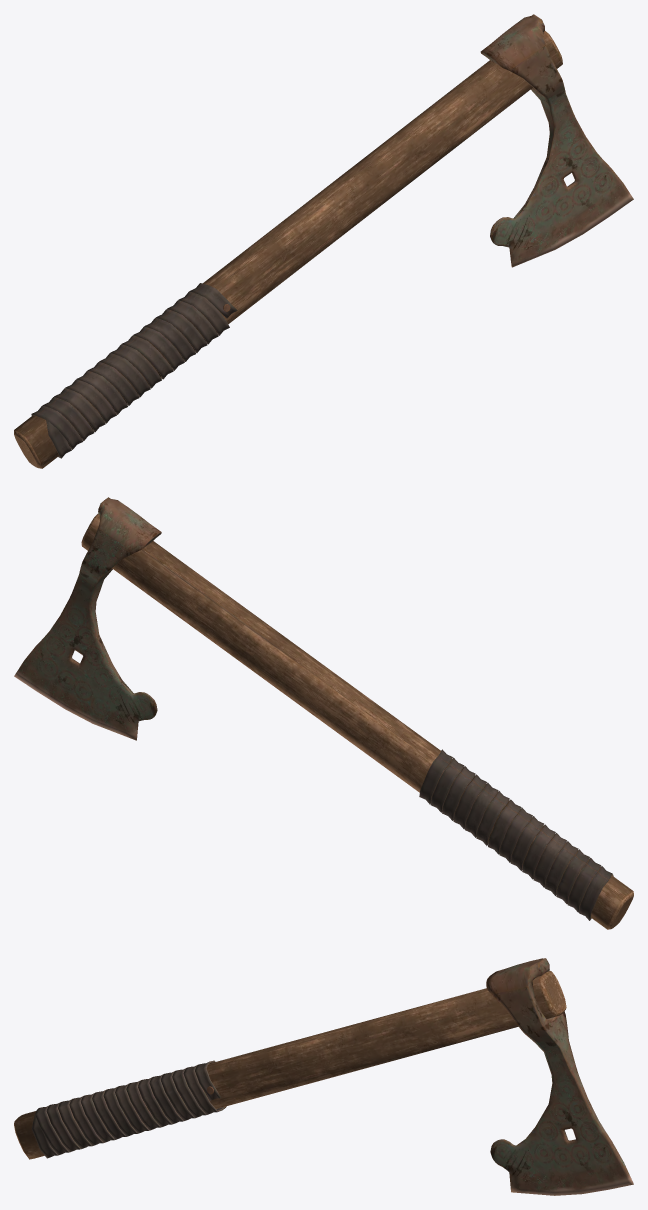
The model's file is axe.glb.
3 views of the same model, one above another, from view 1: azimuth 30°, elevation 25°; view 2: azimuth 150°, elevation 25°; view 3: azimuth 330°, elevation 25° (orthographic). The views are drawn at different scales.
Parts seen in each view (by area): view 1: handle.002; view 2: handle.002; view 3: handle.002.
Part boxes in pixels (<box>): handle.002: <box>14,14,633,468</box>; handle.002: <box>14,497,633,929</box>; handle.002: <box>14,958,633,1195</box>.
Bounding box in the file's own units: 0.5527 × 0.271 × 0.044.
Materials: 1 (1 with a texture image).
